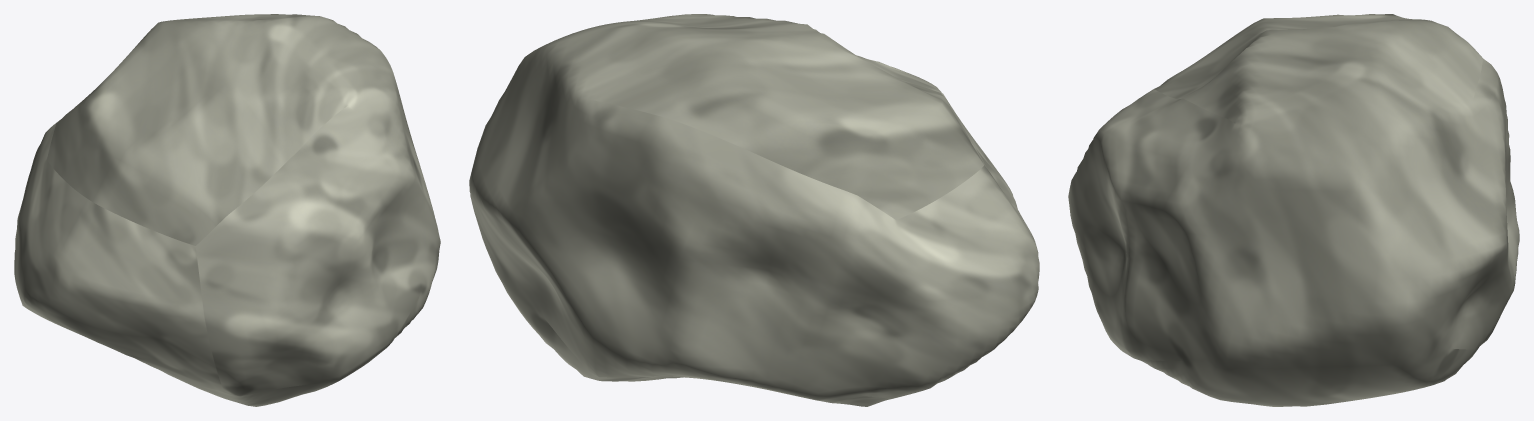
The model's file is Rock6.fbx.
3 views of the same model, side by side, from view 1: azimuth 30°, elevation 25°; view 2: azimuth 150°, elevation 25°; view 3: azimuth 270°, elevation 25° (orthographic). The views are drawn at different scales.
Parts seen in each view (by area): view 1: Cube.005; view 2: Cube.005; view 3: Cube.005.
Boxes of the visible parts, bbox=[...] form: Cube.005: bbox=[14, 14, 440, 406]; Cube.005: bbox=[469, 14, 1039, 406]; Cube.005: bbox=[1068, 14, 1519, 406].
Bounding box in the file's own units: 257 × 179 × 215.
1 material, 1 textured.
